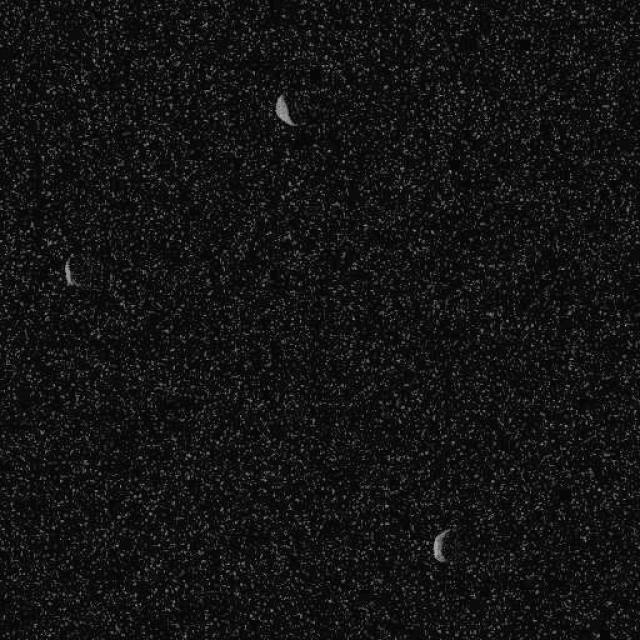D2: (274, 91, 298, 128), (431, 528, 450, 564), (62, 255, 76, 287)
